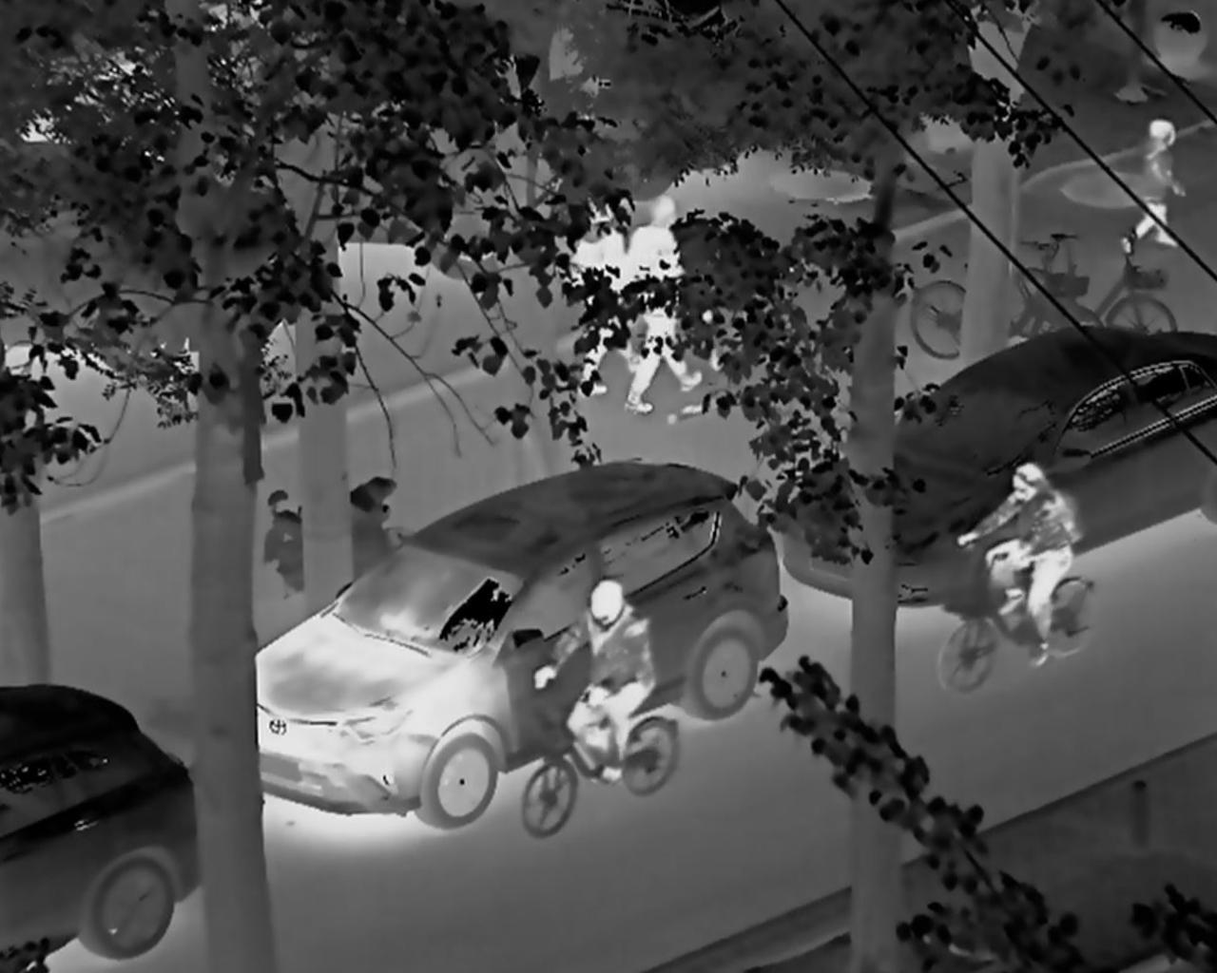person: (528, 579, 661, 800), (947, 458, 1080, 675), (621, 184, 721, 420), (1111, 105, 1196, 261)
